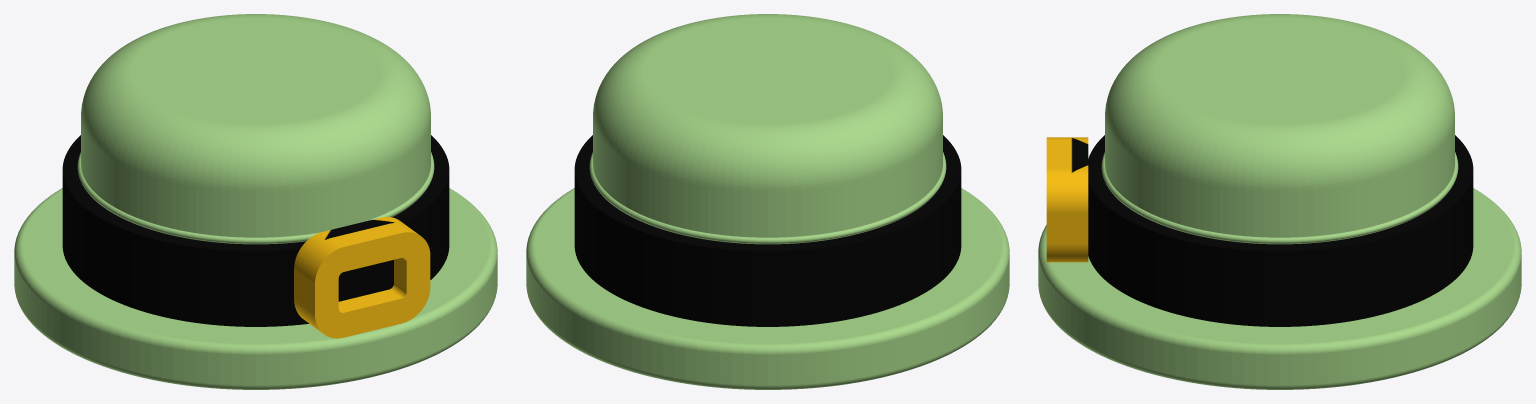
The model's file is Hat_Leprechaun.glb.
The picture shows the model from 3 angles, left to right: view 1: azimuth 30°, elevation 25°; view 2: azimuth 150°, elevation 25°; view 3: azimuth 270°, elevation 25°; orthographic projection.
Visible parts, largest first — view 1: Node2, Node3, Node1; view 2: Node2, Node3; view 3: Node2, Node3, Node1.
Boxes of the visible parts, x1=… form: Node2: x1=14, y1=14, x2=497, y2=389; Node3: x1=62, y1=135, x2=449, y2=326; Node1: x1=294, y1=217, x2=430, y2=338; Node2: x1=526, y1=14, x2=1009, y2=389; Node3: x1=574, y1=135, x2=961, y2=326; Node2: x1=1038, y1=14, x2=1521, y2=389; Node3: x1=1072, y1=135, x2=1473, y2=326; Node1: x1=1046, y1=137, x2=1088, y2=262.
Bounding box in the file's own units: 58 × 29 × 57.98.
